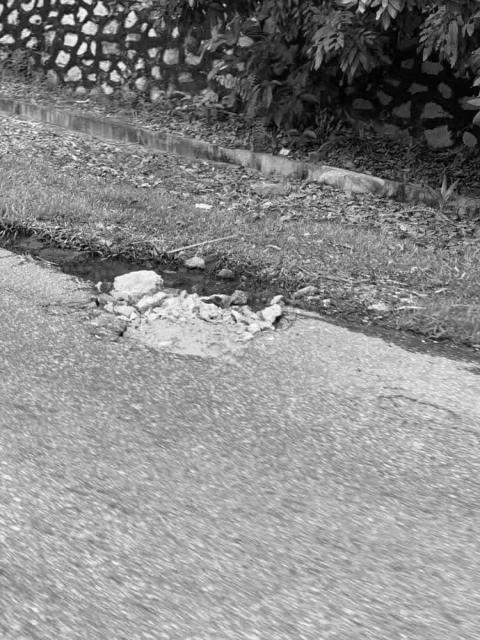Pothole: (90, 280, 283, 362)
